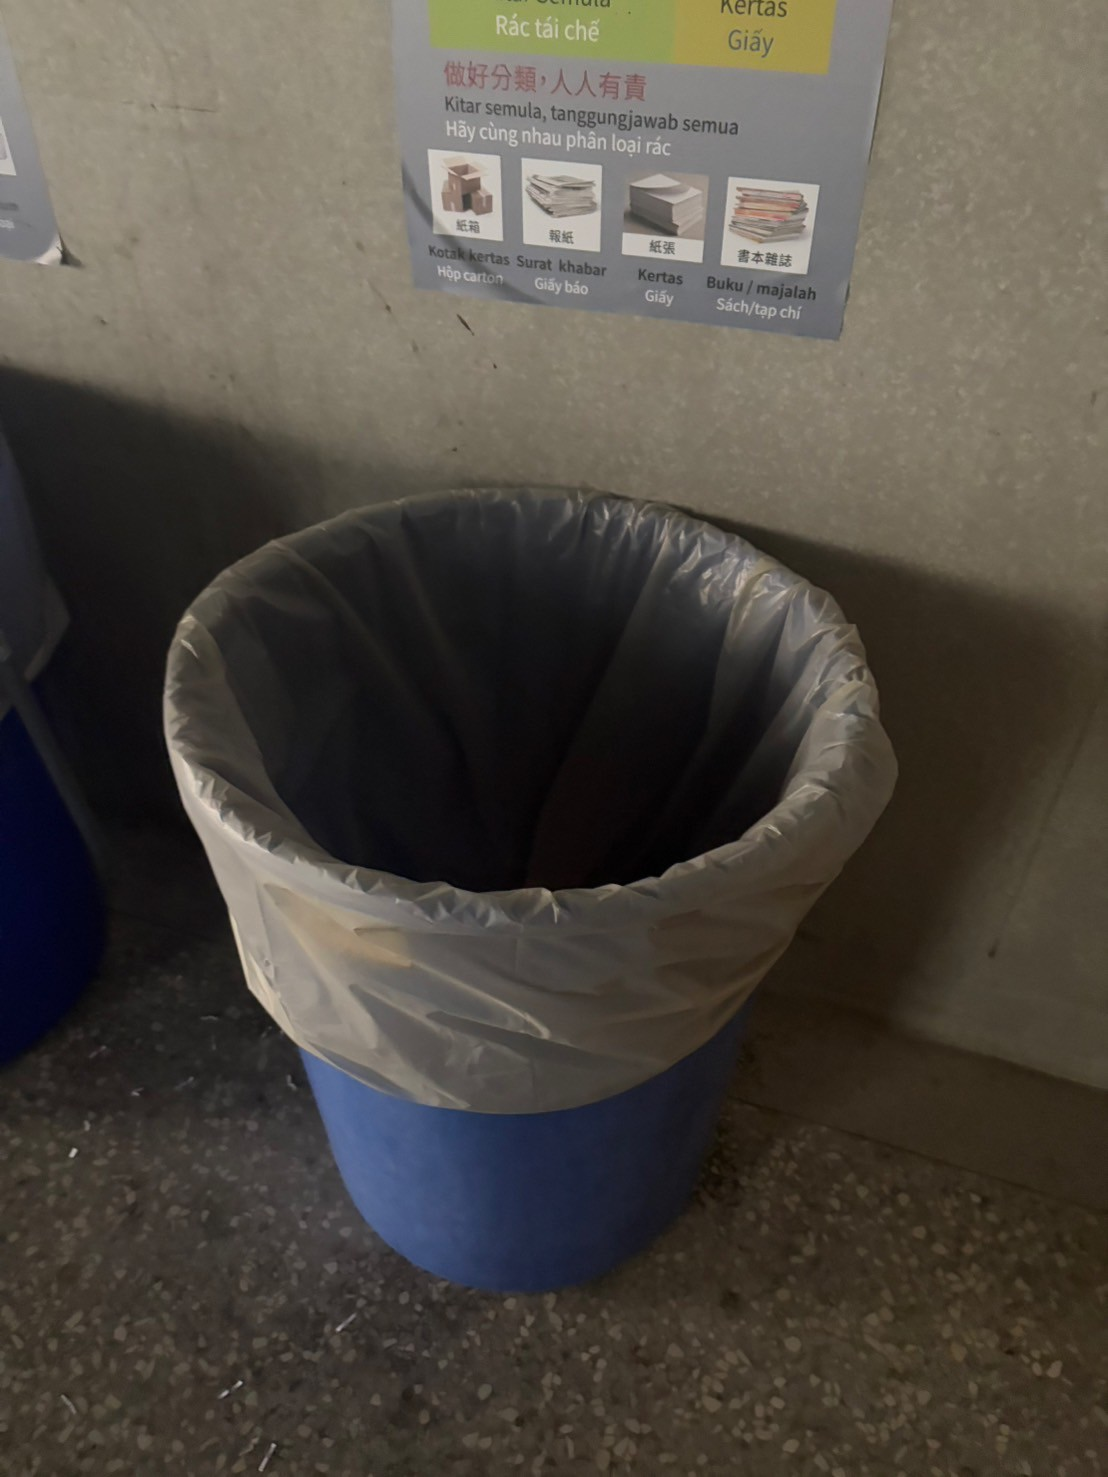normal_bin: (121, 484, 963, 1316)
